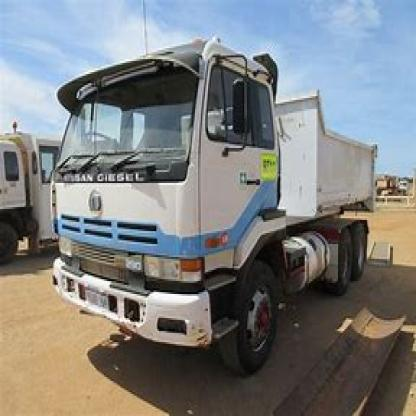dump_truck: (37, 40, 388, 348)
